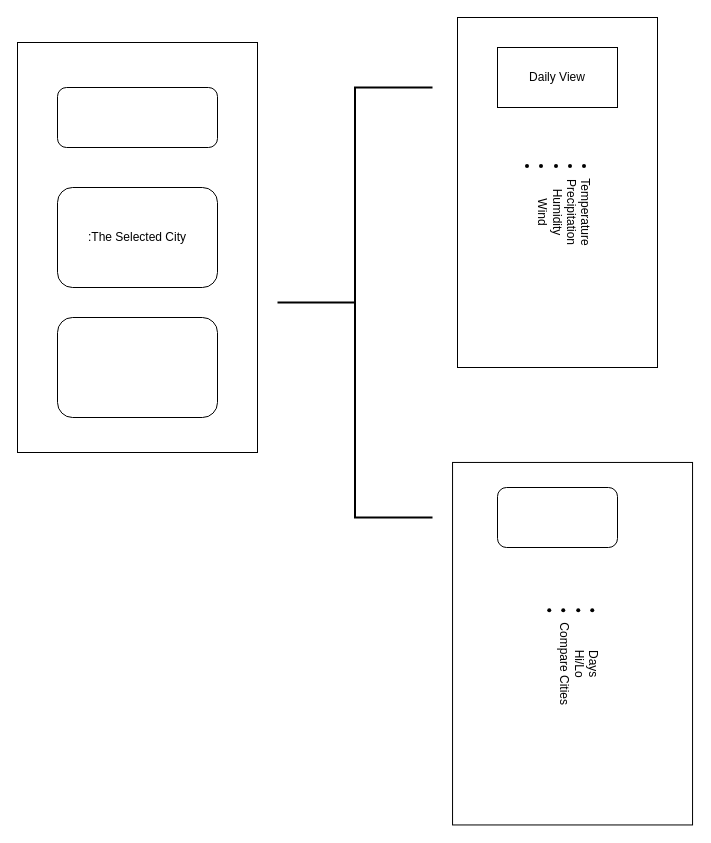
Some shapes in this 711 by 843 pixel diagram are drawn without their labels. Each missing label, with the centre of its shape:
"Navigation Bar Time and Date View Selection" goes at pixel 137 117.
"Weekly View" goes at pixel 557 517.
